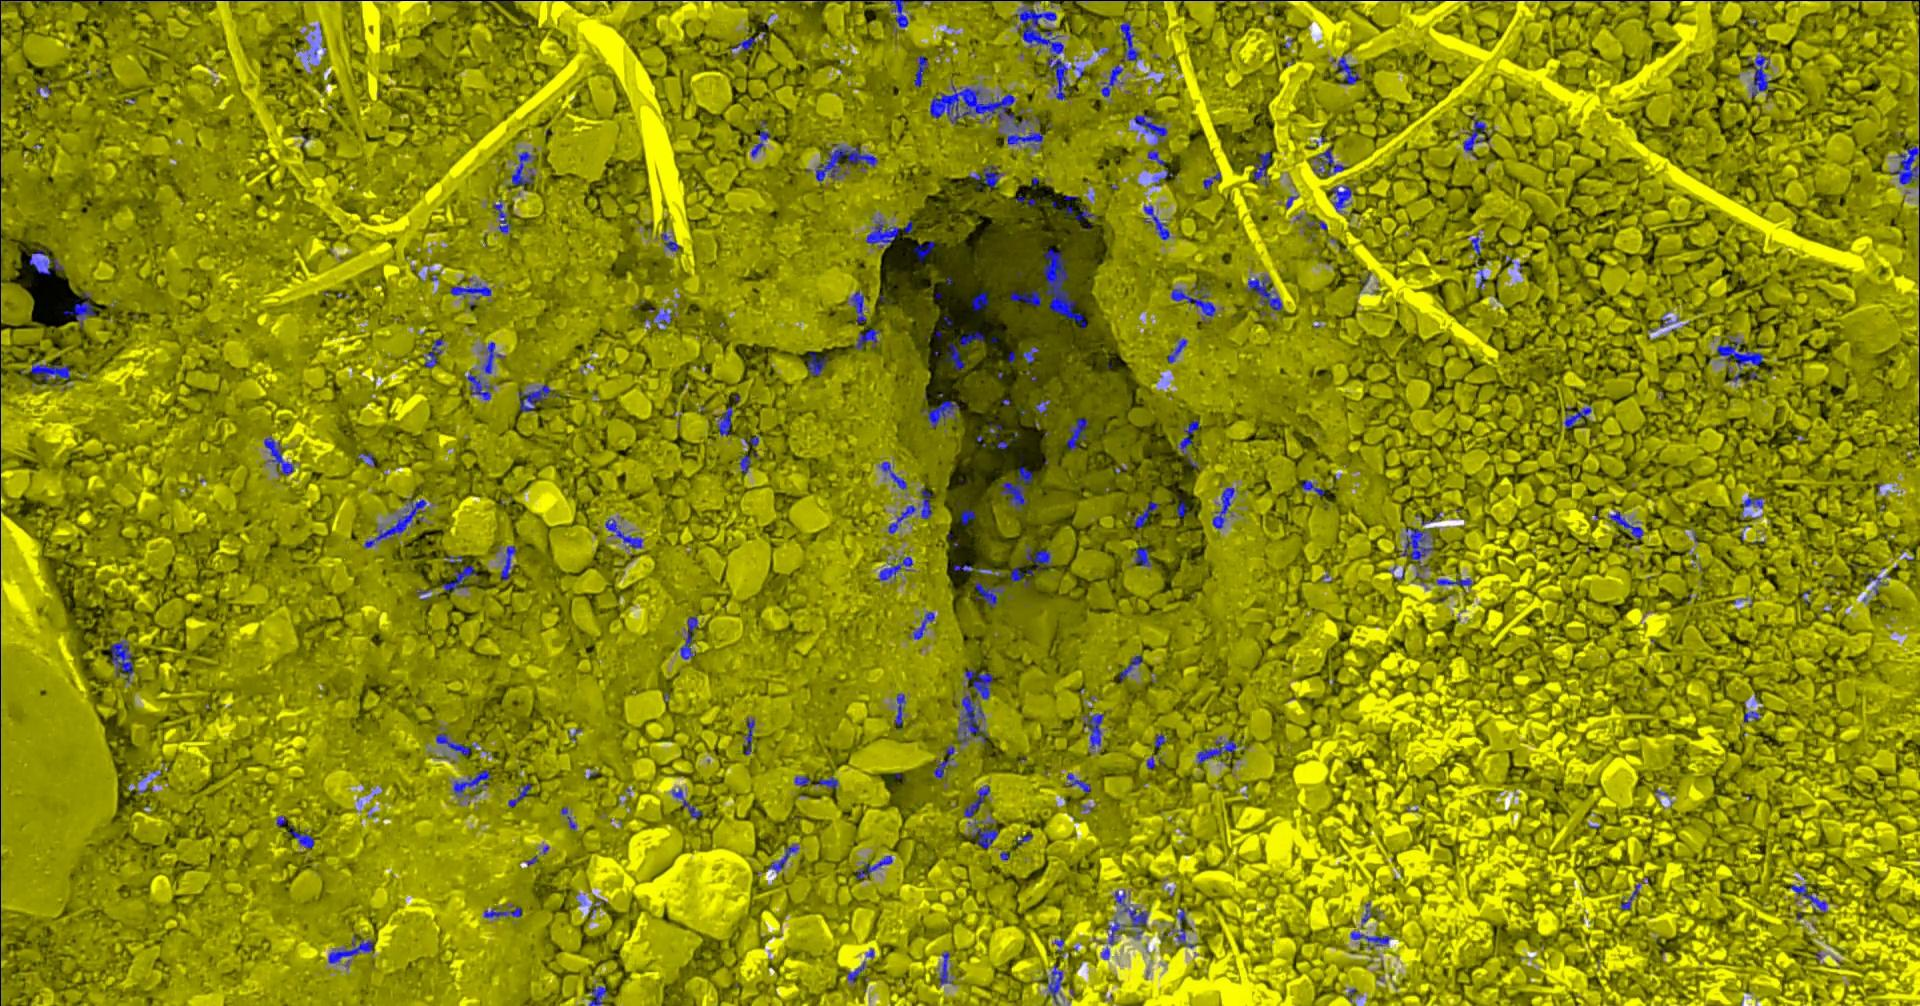ant: (364, 499, 425, 547), (1399, 511, 1441, 568), (815, 144, 877, 180), (1106, 889, 1147, 944), (1716, 340, 1763, 381), (1170, 282, 1215, 321), (955, 695, 987, 743), (328, 934, 373, 967), (999, 466, 1032, 511), (865, 218, 912, 246), (1244, 276, 1283, 310), (263, 437, 293, 475), (1462, 116, 1491, 155), (1890, 145, 1919, 184), (1787, 883, 1826, 912), (1746, 50, 1770, 97), (1196, 737, 1238, 763), (604, 518, 643, 547), (63, 292, 95, 326), (108, 640, 133, 681), (452, 768, 489, 796), (919, 400, 957, 427), (439, 564, 477, 591), (1133, 114, 1167, 144), (517, 384, 552, 412), (670, 788, 702, 818), (1211, 486, 1234, 528), (1608, 511, 1642, 539), (974, 580, 1010, 607), (1312, 146, 1343, 175), (889, 0, 923, 27), (1143, 205, 1170, 239), (436, 733, 477, 754), (30, 361, 70, 384), (767, 843, 797, 873), (963, 784, 989, 817), (1147, 149, 1172, 183), (510, 151, 535, 187), (1175, 419, 1199, 455), (1331, 55, 1360, 84), (964, 669, 993, 699), (855, 855, 891, 878), (877, 556, 912, 580), (1175, 907, 1195, 948), (888, 504, 916, 533), (968, 821, 997, 848), (971, 164, 1002, 191), (1119, 22, 1139, 61), (1006, 128, 1043, 150), (877, 461, 905, 489), (1130, 500, 1158, 528), (679, 616, 697, 659), (1082, 713, 1103, 748), (1100, 64, 1123, 97), (481, 340, 504, 373), (1065, 417, 1088, 450), (28, 254, 63, 274), (450, 281, 490, 298), (750, 119, 770, 156), (1252, 150, 1271, 187), (467, 372, 491, 400), (933, 746, 954, 779), (1350, 931, 1390, 948), (644, 307, 676, 328), (1023, 545, 1050, 569), (912, 611, 935, 639), (491, 199, 510, 232), (1046, 964, 1062, 1005), (1119, 655, 1142, 682), (286, 826, 312, 848), (794, 775, 837, 789), (499, 545, 516, 580), (507, 782, 531, 807), (424, 338, 443, 368), (1564, 406, 1591, 428), (1620, 882, 1641, 909), (1330, 185, 1351, 211), (742, 716, 756, 754), (1010, 290, 1041, 306), (850, 291, 866, 323), (1864, 572, 1887, 594), (855, 328, 879, 349), (483, 904, 522, 917), (1010, 565, 1032, 587), (1166, 338, 1186, 362), (806, 351, 827, 375), (913, 55, 928, 86), (946, 343, 964, 370), (912, 240, 935, 260), (1065, 774, 1090, 793), (660, 229, 679, 251), (717, 405, 731, 436), (938, 951, 951, 984), (894, 694, 905, 729), (952, 564, 992, 574), (731, 36, 756, 52), (1300, 479, 1324, 495), (959, 330, 984, 345), (918, 489, 931, 518), (588, 984, 606, 1005), (560, 807, 575, 829), (1134, 546, 1150, 567), (847, 962, 863, 982), (1203, 171, 1220, 189), (971, 291, 988, 310), (1034, 398, 1050, 417), (1074, 205, 1095, 218), (1175, 497, 1189, 517), (1436, 578, 1473, 586), (1360, 902, 1371, 926), (1022, 345, 1037, 362), (960, 508, 975, 525), (357, 452, 375, 466), (738, 455, 750, 474), (1470, 232, 1481, 255), (1742, 497, 1763, 508), (987, 420, 1001, 437), (1743, 711, 1760, 721), (1154, 733, 1164, 748)
